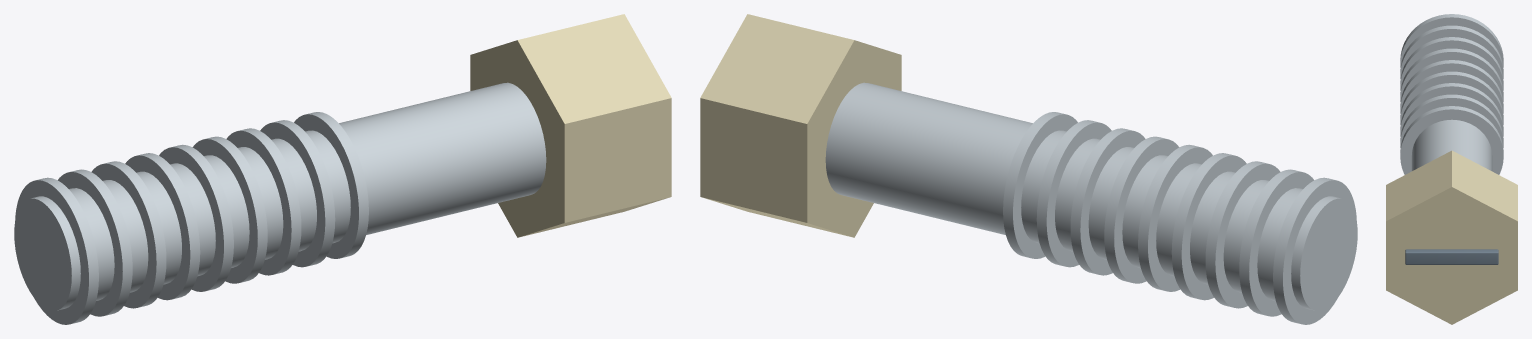
Rendered from CLAMP.glb.
The picture shows the model from 3 angles, left to right: view 1: azimuth 30°, elevation 25°; view 2: azimuth 150°, elevation 25°; view 3: azimuth 270°, elevation 25°; orthographic projection. The views are drawn at different scales.
Visible parts, largest first — view 1: CLAMP/0000_threaded_shank, CLAMP/0010_hex_head, CLAMP/0001_thread, CLAMP/0007_thread, CLAMP/0009_thread, CLAMP/0003_thread, CLAMP/0002_thread, CLAMP/0005_thread, CLAMP/0006_thread, CLAMP/0008_thread, CLAMP/0004_thread; view 2: CLAMP/0000_threaded_shank, CLAMP/0010_hex_head, CLAMP/0001_thread, CLAMP/0007_thread, CLAMP/0009_thread, CLAMP/0003_thread, CLAMP/0002_thread, CLAMP/0005_thread, CLAMP/0006_thread, CLAMP/0008_thread, CLAMP/0004_thread; view 3: CLAMP/0010_hex_head, CLAMP/0000_threaded_shank, CLAMP/0009_thread, CLAMP/0011_driver_slot, CLAMP/0002_thread, CLAMP/0004_thread, CLAMP/0006_thread, CLAMP/0008_thread, CLAMP/0001_thread, CLAMP/0007_thread, CLAMP/0003_thread, CLAMP/0005_thread.
Boxes of the visible parts, bbox=[...] form: CLAMP/0000_threaded_shank: bbox=[14, 82, 546, 310]; CLAMP/0010_hex_head: bbox=[470, 14, 671, 237]; CLAMP/0001_thread: bbox=[15, 177, 98, 324]; CLAMP/0007_thread: bbox=[226, 128, 301, 275]; CLAMP/0009_thread: bbox=[294, 112, 368, 258]; CLAMP/0003_thread: bbox=[91, 161, 166, 308]; CLAMP/0002_thread: bbox=[58, 169, 132, 316]; CLAMP/0005_thread: bbox=[159, 144, 233, 291]; CLAMP/0006_thread: bbox=[192, 136, 267, 283]; CLAMP/0008_thread: bbox=[260, 120, 335, 267]; CLAMP/0004_thread: bbox=[125, 153, 200, 300]; CLAMP/0000_threaded_shank: bbox=[825, 82, 1357, 310]; CLAMP/0010_hex_head: bbox=[700, 14, 901, 237]; CLAMP/0001_thread: bbox=[1273, 177, 1356, 324]; CLAMP/0007_thread: bbox=[1070, 128, 1145, 275]; CLAMP/0009_thread: bbox=[1003, 112, 1077, 258]; CLAMP/0003_thread: bbox=[1205, 161, 1280, 308]; CLAMP/0002_thread: bbox=[1239, 169, 1313, 316]; CLAMP/0005_thread: bbox=[1138, 144, 1212, 291]; CLAMP/0006_thread: bbox=[1104, 136, 1179, 283]; CLAMP/0008_thread: bbox=[1036, 120, 1111, 267]; CLAMP/0004_thread: bbox=[1171, 153, 1246, 300]; CLAMP/0010_hex_head: bbox=[1386, 150, 1517, 324]; CLAMP/0000_threaded_shank: bbox=[1411, 119, 1492, 170]; CLAMP/0009_thread: bbox=[1400, 106, 1503, 174]; CLAMP/0011_driver_slot: bbox=[1405, 249, 1498, 264]; CLAMP/0002_thread: bbox=[1400, 25, 1503, 78]; CLAMP/0004_thread: bbox=[1400, 48, 1503, 101]; CLAMP/0006_thread: bbox=[1400, 71, 1503, 124]; CLAMP/0008_thread: bbox=[1400, 94, 1503, 147]; CLAMP/0001_thread: bbox=[1400, 14, 1503, 67]; CLAMP/0007_thread: bbox=[1400, 83, 1503, 136]; CLAMP/0003_thread: bbox=[1400, 37, 1503, 90]; CLAMP/0005_thread: bbox=[1400, 60, 1503, 113].
Bounding box in the file's own units: 0.0596 × 0.0191 × 0.0165.
